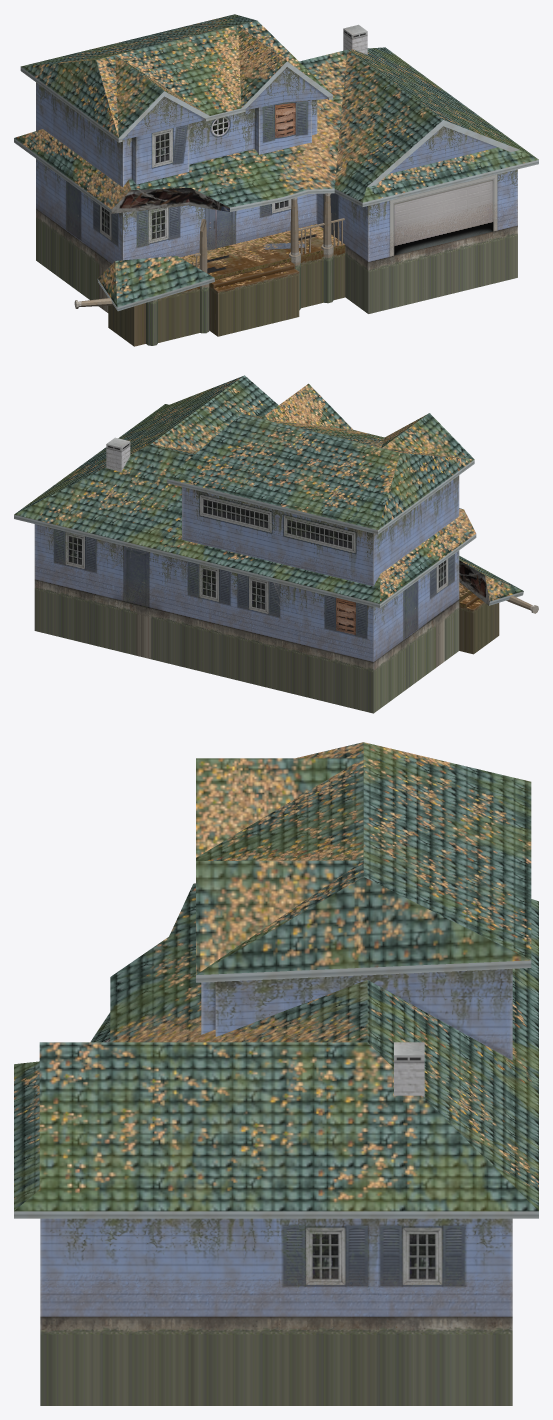
Rendered from House 2b - Separated.fbx.
3 renders of one model, top to bottom at view 1: azimuth 30°, elevation 25°; view 2: azimuth 150°, elevation 25°; view 3: azimuth 270°, elevation 25°, orthographic. The views are drawn at different scales.
Visible parts, largest first — view 1: House 2b, Door_Garage_Roller, Door_Front, Door_Side; view 2: House 2b, Door_Back, Door_Side; view 3: House 2b.
Part boxes in pixels (x1,y1,x2,y2): House 2b: (14, 14, 538, 346); Door_Garage_Roller: (394, 179, 493, 254); Door_Front: (208, 208, 232, 250); Door_Side: (68, 182, 79, 238); House 2b: (14, 375, 538, 713); Door_Back: (127, 550, 145, 605); Door_Side: (405, 582, 416, 637); House 2b: (14, 742, 538, 1405).
Size of the model in its own units: 6.44 by 3.34 by 4.07.
